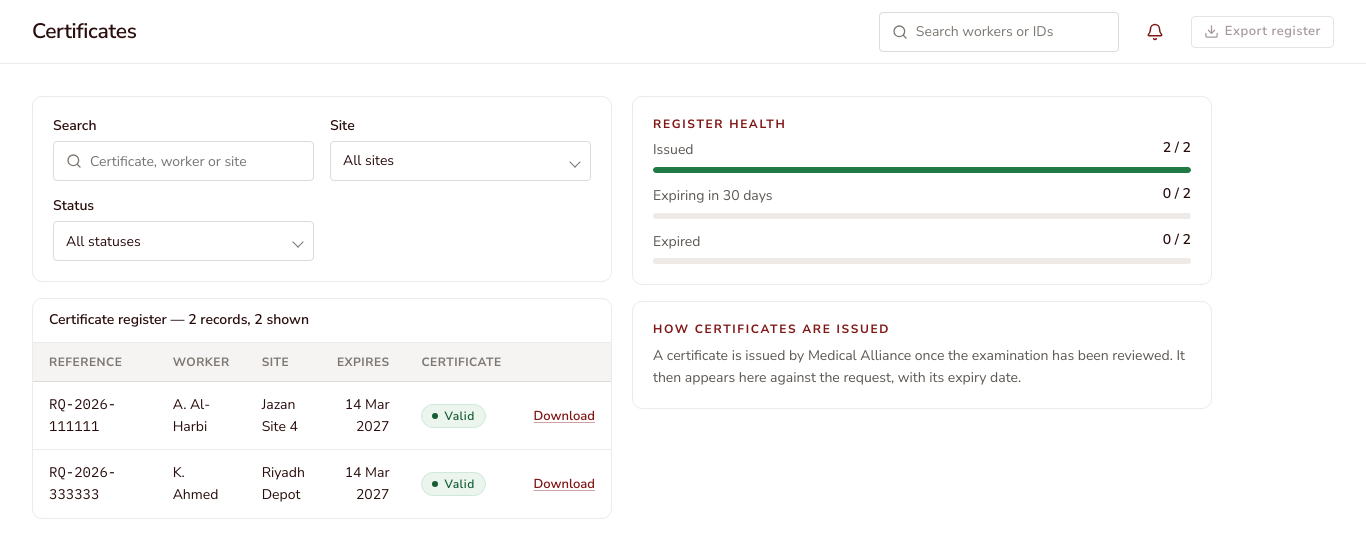
Scenario: CertificatesScreen › filters the register and offers a way to clear the filter
Expected: the text "A. Al-Harbi" is shown, [157, 382, 246, 450]
Type "Ahmed" into the field labelled "Search" at {"x": 196, "y": 161}, box [90, 152, 301, 171]
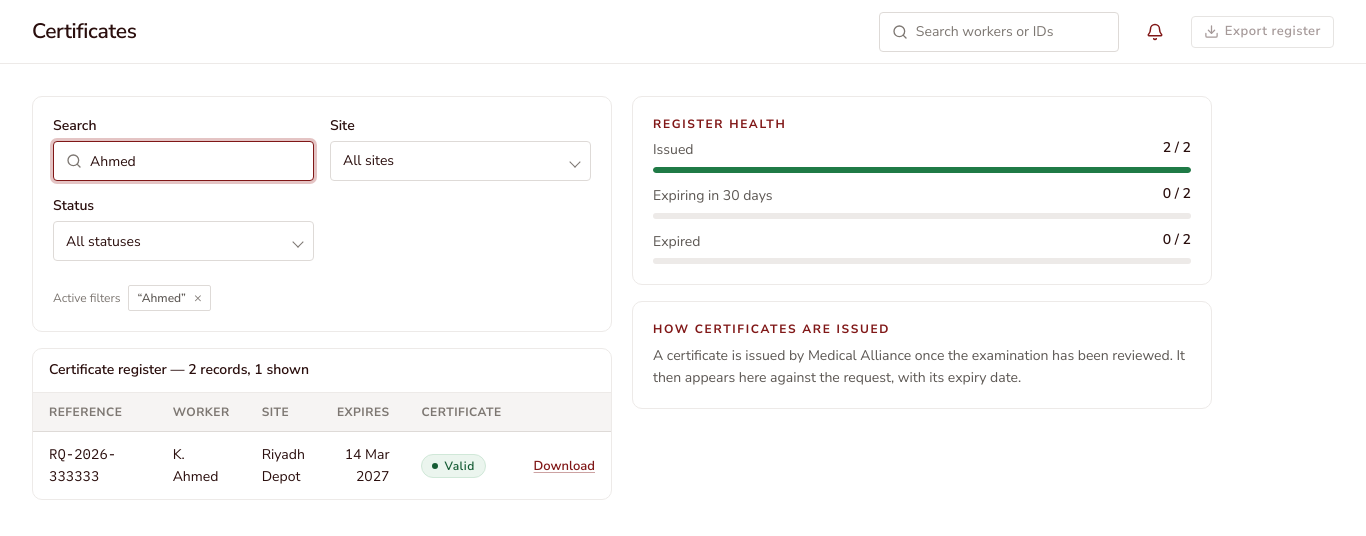
Expected: the text "K. Ahmed" is shown, [157, 432, 246, 499]
Expected: the text "A. Al-Harbi" is gone
Clear the field labelled "Search" at {"x": 196, "y": 161}, box [90, 152, 301, 171]
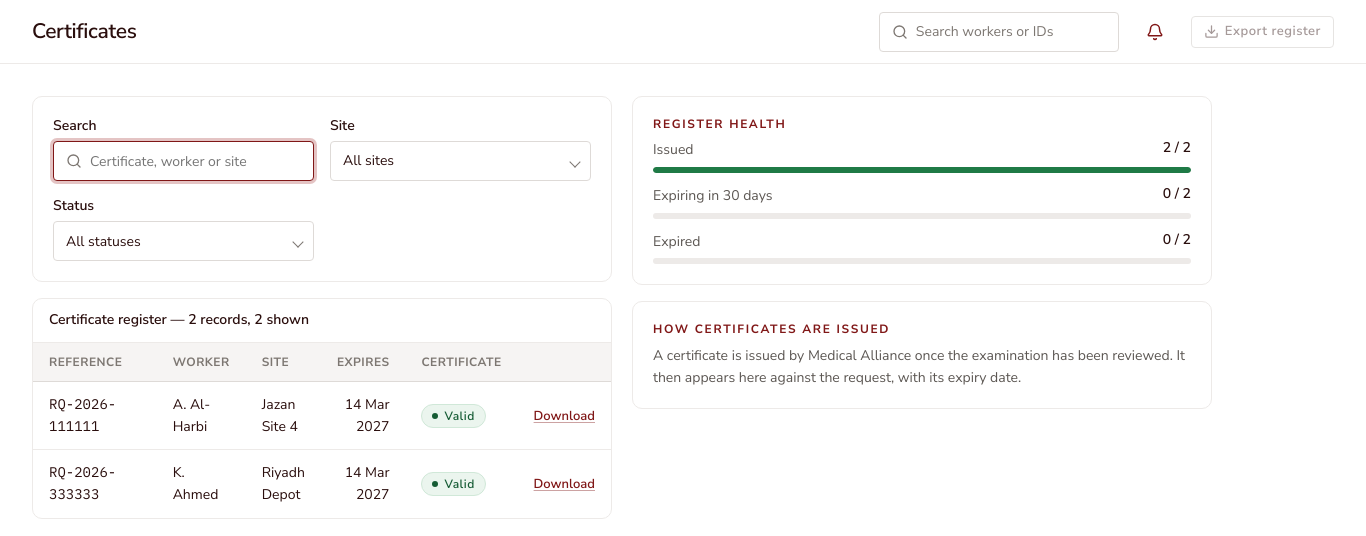
Expected: the text "A. Al-Harbi" is shown, [157, 382, 246, 450]
